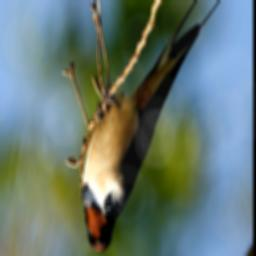Swallow: (82, 0, 242, 254)
